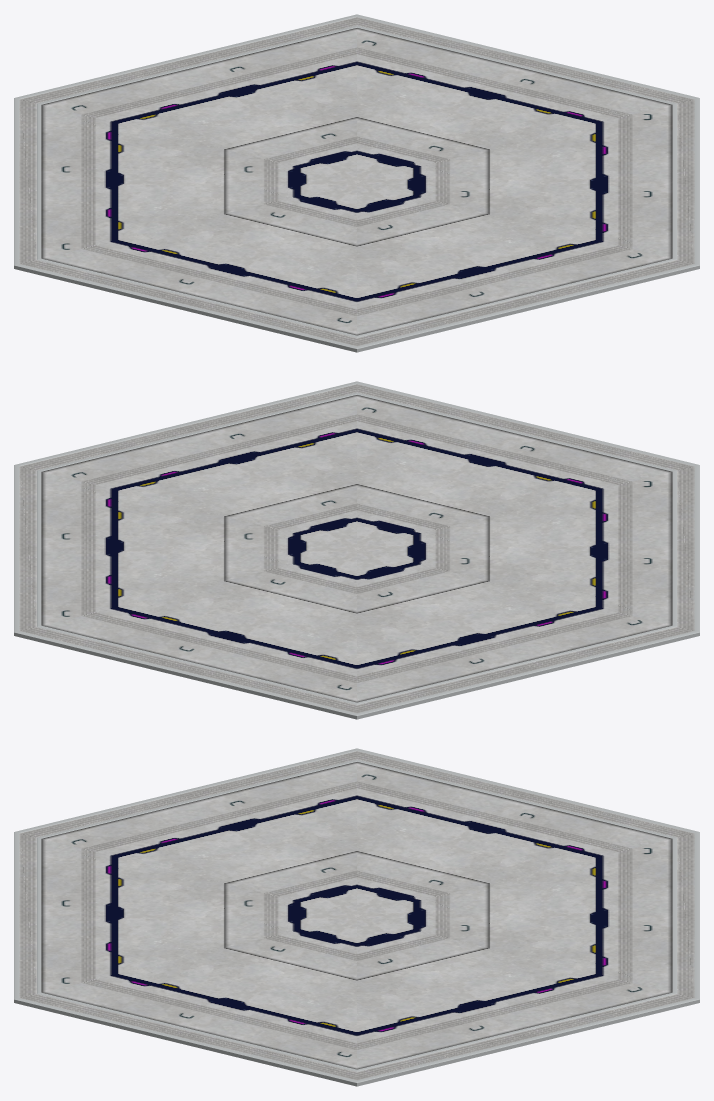
File: entity23564n.gltf
3 renders of one model, top to bottom at view 1: azimuth 30°, elevation 25°; view 2: azimuth 150°, elevation 25°; view 3: azimuth 270°, elevation 25°, orthographic.
Visible parts, largest first — view 1: node_Museum_Hex_Base; view 2: node_Museum_Hex_Base; view 3: node_Museum_Hex_Base.
Part boxes in pixels (x1,y1,x2,y2): node_Museum_Hex_Base: (14,14,699,352); node_Museum_Hex_Base: (14,381,699,719); node_Museum_Hex_Base: (14,748,699,1086).
Size of what is drawn, in the model's own units: 95 by 0.5 by 82.27.
2 materials, 2 textured.
